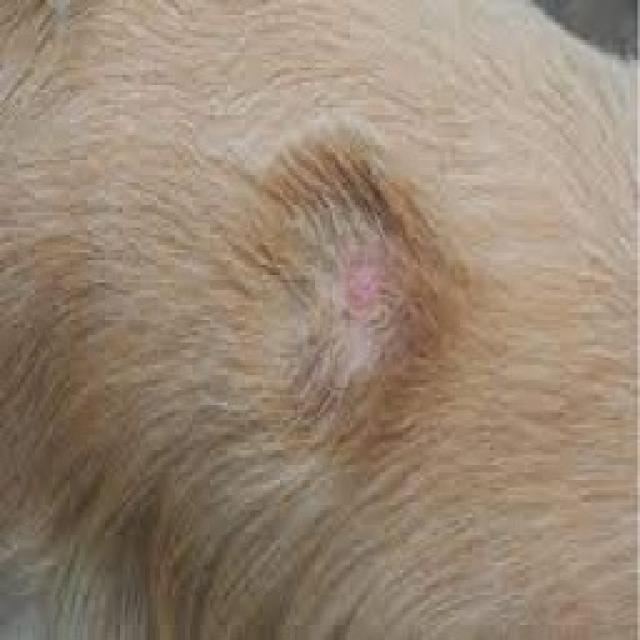hotspot: (343, 261, 386, 321)
